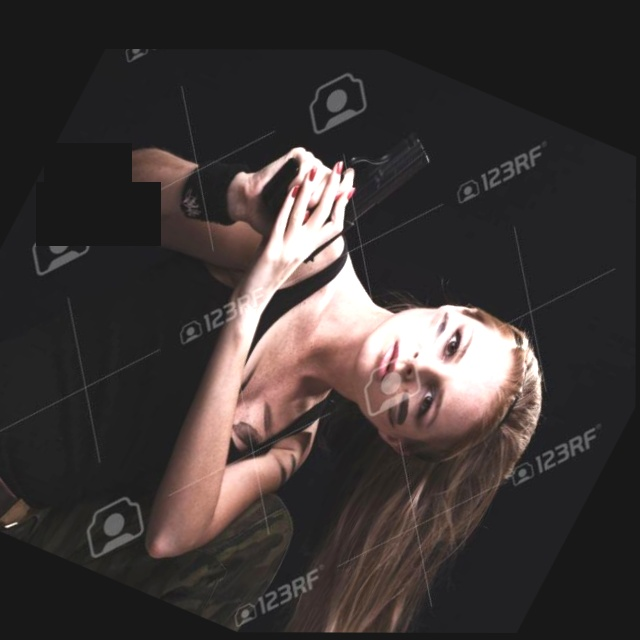gun: (212, 78, 451, 327)
